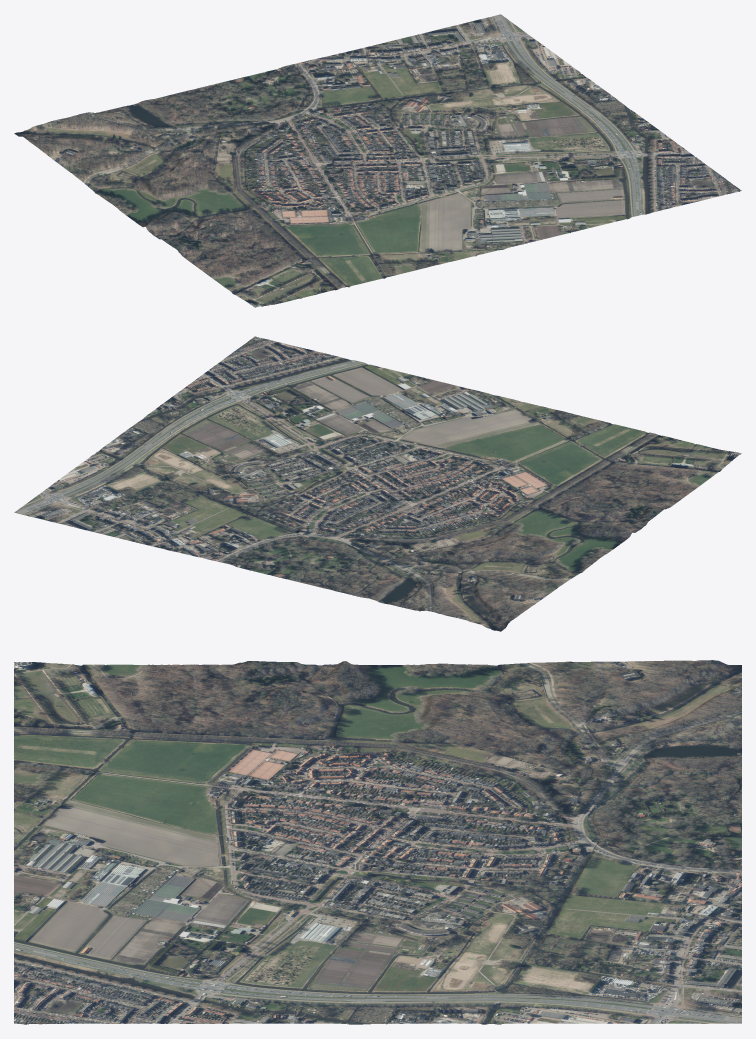
File: terrain.glb
3 views of the same model, one above another, from view 1: azimuth 30°, elevation 25°; view 2: azimuth 150°, elevation 25°; view 3: azimuth 270°, elevation 25° (orthographic). The views are drawn at different scales.
Parts seen in each view (by area): view 1: p02, p23, p11, p13, p33, p32, p21, p30, p20, p12, p31, p10 (+4 smaller); view 2: p31, p12, p13, p30, p22, p10, p00, p32, p20, p33, p11, p21 (+4 smaller); view 3: p03, p01, p00, p02, p10, p20, p21, p23, p22, p11, p31, p32 (+4 smaller).
Part boxes in pixels (x1,y1,x2,y2): p02: (74,147,255,221); p23: (258,44,438,117); p11: (256,162,437,235); p13: (136,74,317,147); p33: (379,14,560,88); p32: (440,58,620,132); p21: (378,132,559,206); p30: (560,146,741,220); p20: (438,176,619,250); p12: (196,117,377,191); p31: (500,102,681,176); p10: (317,206,497,279); p31: (135,380,315,454); p12: (318,484,499,557); p13: (258,528,438,602); p30: (195,336,376,410); p22: (196,454,377,527); p10: (439,396,619,469); p00: (560,425,741,498); p32: (74,424,255,498); p20: (317,366,497,439); p33: (14,468,195,542); p11: (378,440,559,513); p21: (256,410,437,483); p03: (560,660,741,755); p01: (196,661,377,755); p00: (14,662,195,755); p02: (378,662,559,755); p10: (14,754,195,845); p20: (14,844,195,934); p21: (196,844,377,934); p23: (560,843,741,934); p22: (378,844,559,934); p11: (196,754,377,845); p31: (195,934,377,1024); p32: (378,933,559,1024).
Size of the model in its own units: 1400 by 12.3 by 1200.
16 materials, 16 textured.
